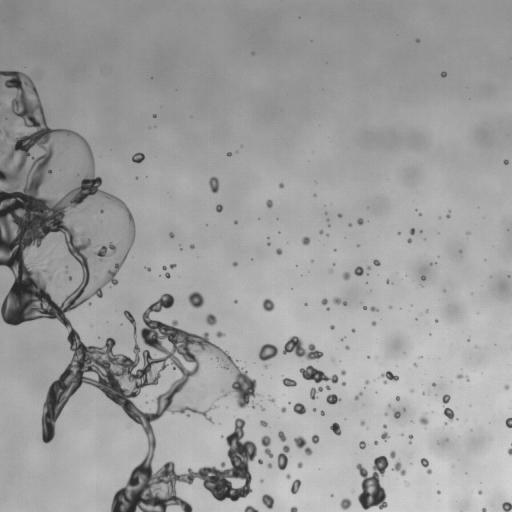droplet: (356, 456, 388, 509), (258, 344, 278, 361), (188, 291, 204, 308), (162, 264, 175, 278), (392, 461, 405, 475), (208, 177, 219, 193), (262, 494, 274, 508), (290, 479, 301, 494), (262, 298, 274, 311), (310, 386, 322, 399), (293, 402, 306, 414), (282, 377, 297, 387), (330, 422, 341, 435), (326, 394, 340, 404), (132, 152, 144, 163), (340, 497, 351, 509), (206, 314, 216, 325), (419, 415, 428, 426), (354, 266, 364, 275), (502, 502, 511, 511), (278, 431, 286, 441), (302, 236, 310, 245), (311, 434, 319, 443), (381, 432, 389, 440), (505, 417, 511, 427), (215, 204, 222, 212), (266, 200, 273, 207), (373, 259, 380, 266), (393, 411, 400, 418), (260, 420, 267, 427), (216, 331, 224, 337), (359, 441, 365, 449), (357, 218, 363, 225), (343, 272, 349, 279), (321, 298, 327, 305), (390, 450, 395, 458), (276, 248, 282, 254), (370, 306, 377, 311), (290, 506, 297, 511), (441, 71, 446, 77), (51, 182, 56, 188), (99, 206, 104, 212), (297, 462, 302, 468), (56, 153, 63, 157), (410, 228, 414, 235), (503, 159, 508, 164), (169, 232, 174, 237), (270, 398, 275, 403), (281, 407, 286, 412), (446, 212, 450, 218), (226, 152, 231, 156), (279, 183, 283, 188), (190, 244, 194, 249), (421, 276, 426, 280), (371, 321, 376, 325), (341, 370, 345, 375), (341, 381, 346, 385), (258, 459, 262, 464), (267, 463, 271, 468), (319, 230, 323, 234), (407, 238, 411, 242), (233, 262, 237, 266), (330, 325, 334, 329), (365, 380, 369, 384), (325, 385, 329, 389), (504, 385, 508, 389), (251, 404, 255, 408), (320, 411, 324, 415), (360, 421, 364, 425), (286, 474, 290, 478), (478, 490, 482, 494), (338, 213, 341, 217), (146, 267, 150, 270), (44, 269, 48, 272), (68, 276, 71, 280), (345, 346, 349, 349), (396, 396, 399, 400), (260, 407, 264, 410), (383, 424, 386, 428), (482, 508, 486, 511), (367, 266, 370, 269), (386, 280, 389, 283), (363, 306, 366, 309), (352, 328, 355, 331), (413, 363, 416, 366), (432, 383, 435, 386), (374, 441, 377, 444), (437, 490, 440, 493), (234, 221, 237, 223), (329, 270, 332, 272), (383, 381, 386, 383), (313, 408, 315, 411), (260, 480, 263, 482), (94, 232, 96, 234), (326, 233, 328, 235), (268, 243, 270, 245), (430, 263, 432, 265), (443, 289, 445, 291), (426, 310, 428, 312), (435, 319, 437, 321), (341, 338, 343, 340), (367, 355, 369, 357), (265, 365, 267, 367), (411, 390, 413, 392), (388, 405, 390, 407), (187, 414, 189, 416)
ligament: (0, 71, 257, 511), (282, 336, 323, 360), (299, 365, 338, 383), (442, 394, 454, 425), (124, 310, 136, 340), (294, 436, 312, 455), (277, 445, 289, 469), (261, 435, 273, 457), (380, 371, 398, 381), (420, 458, 431, 474), (333, 297, 347, 305), (244, 505, 258, 511), (457, 374, 469, 380), (354, 392, 362, 400), (98, 218, 103, 227), (83, 206, 89, 211), (409, 434, 412, 443), (508, 446, 511, 455)
